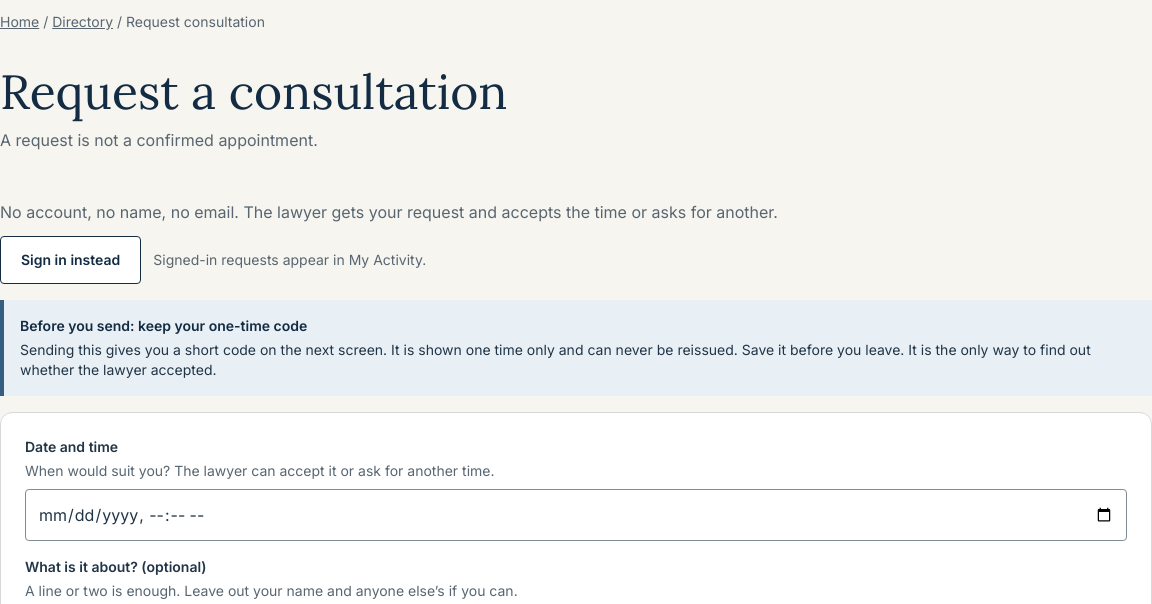
Test case: Booking a lawyer as a visitor › sends to the anonymous route without a login and shows the code
This screenshot has width=1152, height=604.
Type "2099-01-01T10:00" into the field labelled "Date and time". click: [576, 515]
box: [25,489,1127,541]
(page scrolled)
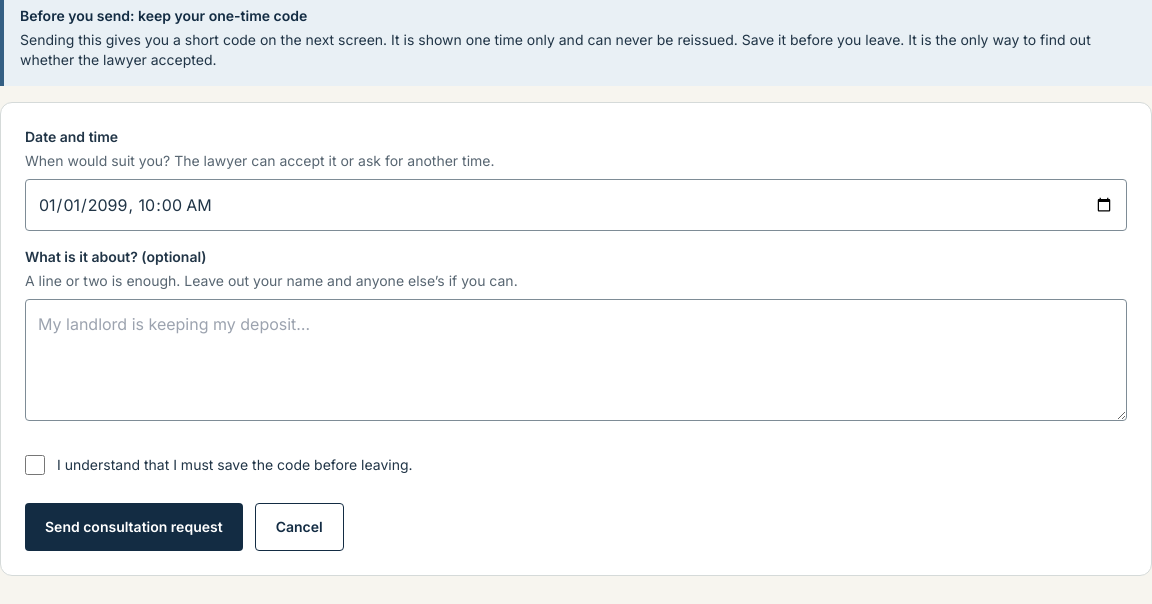
Type "  My deposit  " into the text box labelled "What is it about? (optional)". click: [576, 360]
box: [25,299,1127,421]
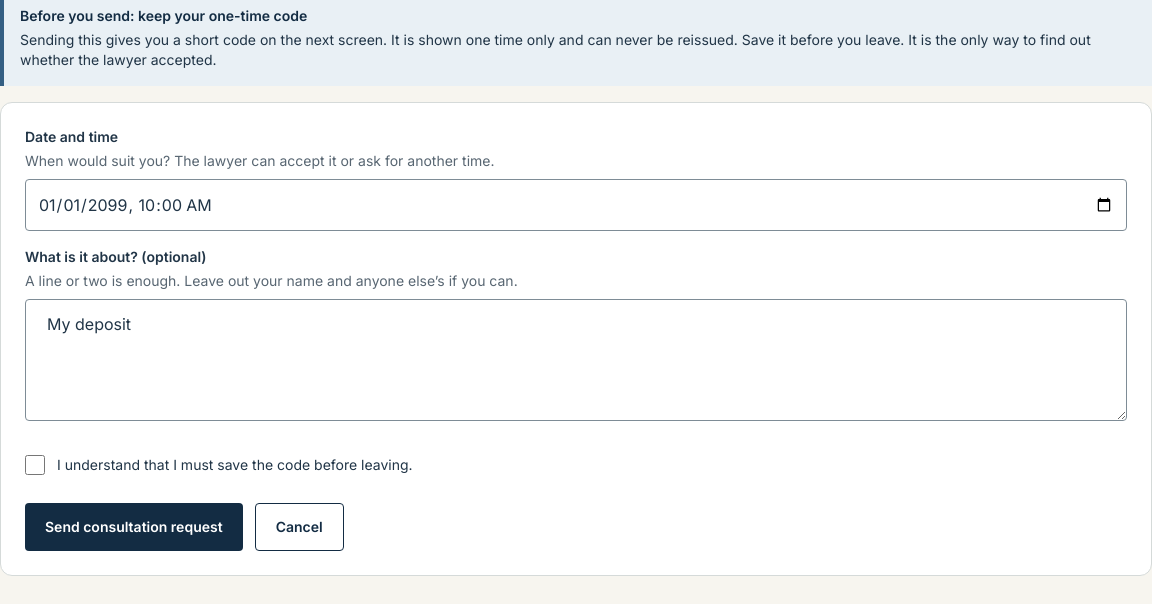
Click the checkbox labelled "I understand that I must save the code before leaving.". click: [35, 465]
box: [25,455,45,475]
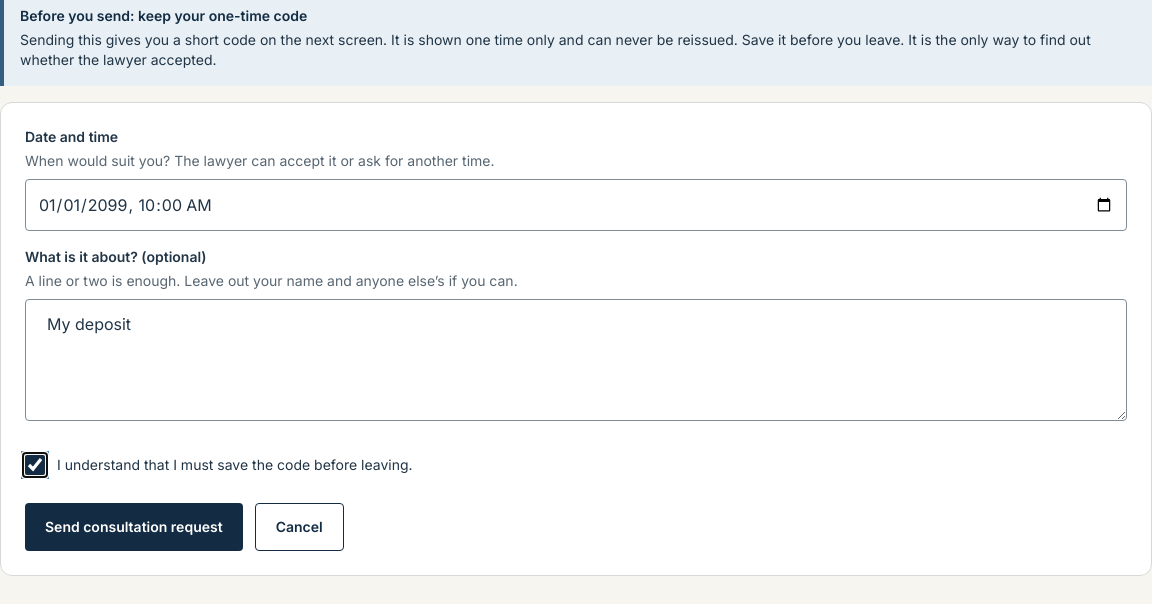
Click the button "Send consultation request". click: [134, 527]
box: [25,503,243,551]
(page scrolled)
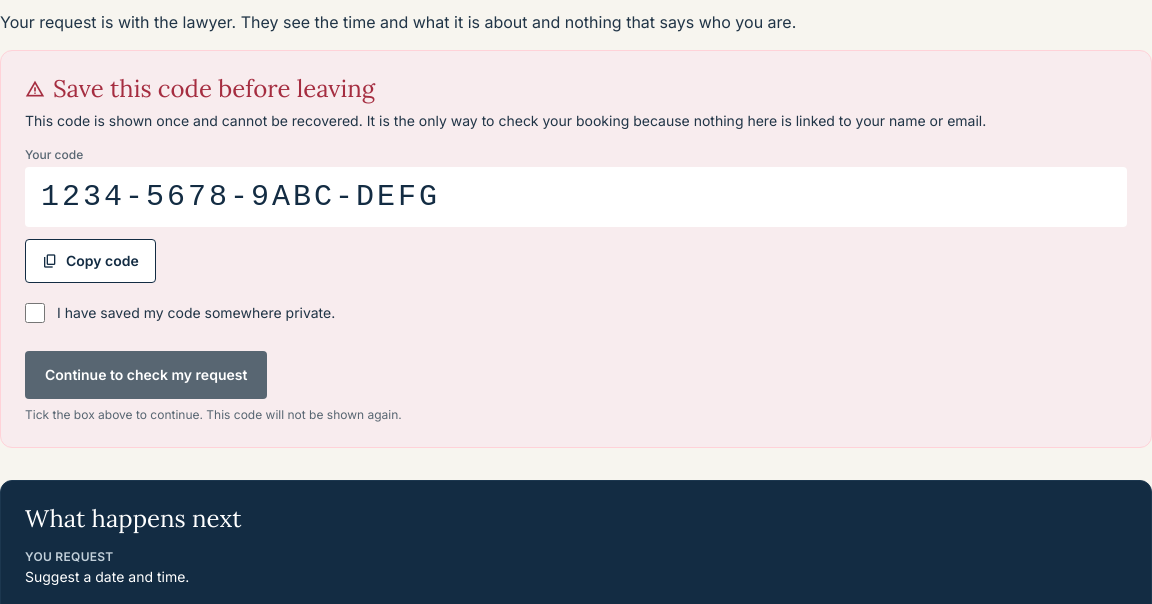
expect the text "1234-5678-9ABC-DEFG" is shown: met, box [25,167,1127,227]
